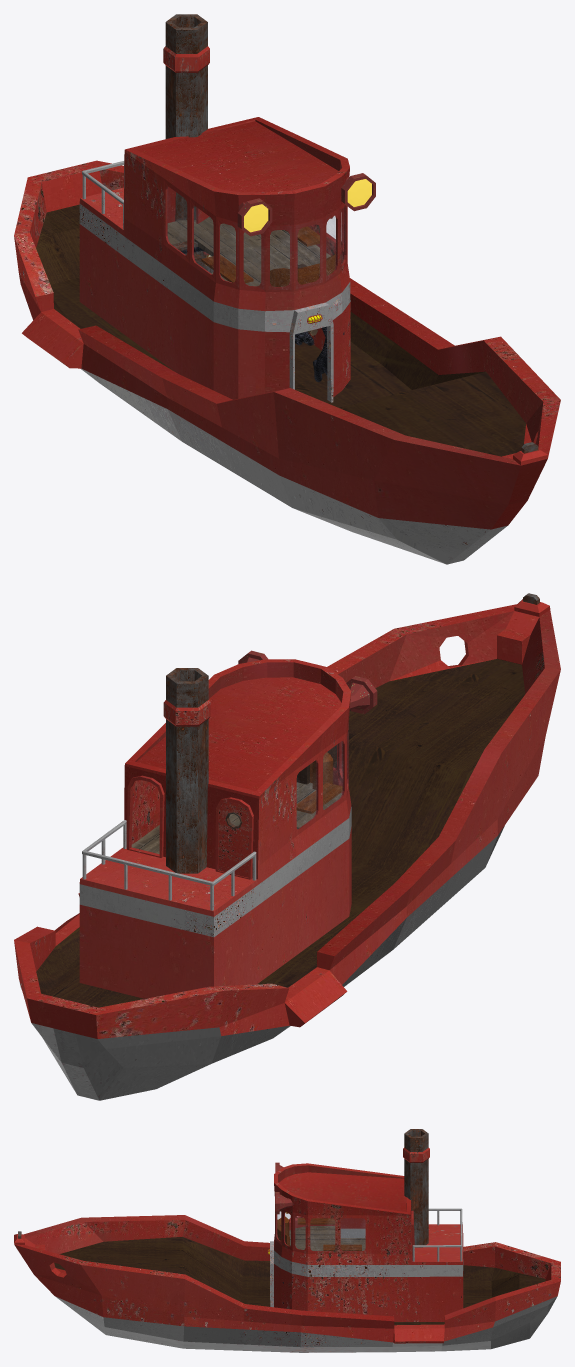
The model's file is boat_0.1.glb.
3 renders of one model, top to bottom at view 1: azimuth 30°, elevation 25°; view 2: azimuth 150°, elevation 25°; view 3: azimuth 270°, elevation 25°, orthographic. The views are drawn at different scales.
Parts seen in each view (by area): view 1: body-col, cabin-col, exhaust_pipe-col, floor_top-col, Cylinder, Cube.005; view 2: body-col, cabin-col, exhaust_pipe-col, top_door-col, floor_top-col, Cylinder, rails-col, Cylinder.008, table-col; view 3: body-col, cabin-col, exhaust_pipe-col, floor_top-col, rails-col, Cylinder.
Part boxes in pixels (left/top/right/bottom): body-col: left=14, top=160, right=560, bottom=564; cabin-col: left=79, top=117, right=350, bottom=402; exhaust_pipe-col: left=163, top=14, right=213, bottom=272; floor_top-col: left=167, top=216, right=341, bottom=286; Cylinder: left=237, top=173, right=375, bottom=236; Cube.005: left=270, top=254, right=335, bottom=286; body-col: left=14, top=593, right=560, bottom=1100; cabin-col: left=79, top=659, right=351, bottom=998; exhaust_pipe-col: left=163, top=668, right=210, bottom=873; top_door-col: left=218, top=801, right=252, bottom=879; floor_top-col: left=131, top=782, right=341, bottom=853; Cylinder: left=238, top=650, right=377, bottom=714; rails-col: left=82, top=820, right=256, bottom=885; Cylinder.008: left=82, top=824, right=256, bottom=910; table-col: left=296, top=782, right=342, bottom=813; body-col: left=14, top=1215, right=560, bottom=1352; cabin-col: left=270, top=1163, right=463, bottom=1321; exhaust_pipe-col: left=403, top=1129, right=429, bottom=1247; floor_top-col: left=289, top=1226, right=365, bottom=1250; rails-col: left=412, top=1208, right=462, bottom=1247; Cylinder: left=275, top=1162, right=292, bottom=1214.
Bounding box in the file's own units: 9.7 × 11.9 × 28.37.
17 materials, 15 textured.
